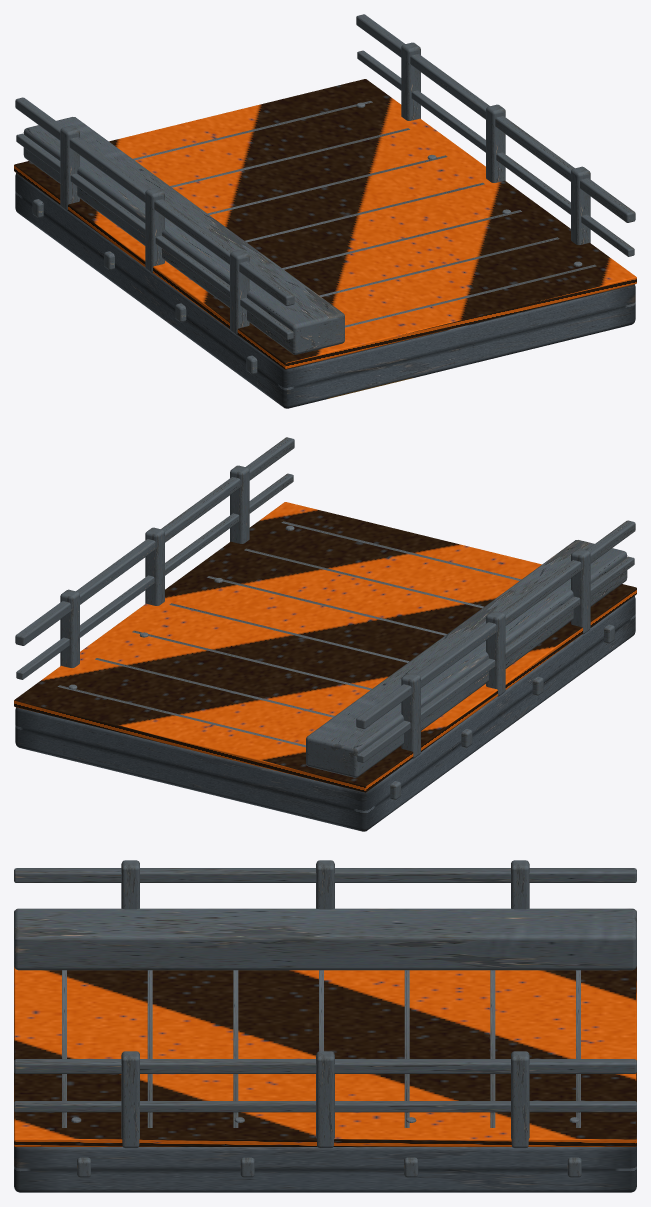
The model's file is bridge_deck.glb.
The picture shows the model from 3 angles, top to bottom: view 1: azimuth 30°, elevation 25°; view 2: azimuth 150°, elevation 25°; view 3: azimuth 270°, elevation 25°; orthographic projection. The views are drawn at different scales.
Parts seen in each view (by area): view 1: BridgeHazard, BridgeDeck, BridgeDucting, BridgeRailTop-10, BridgeRailTop10, BridgeRailMid-10, BridgeRailMid10, BridgePost-100, BridgePost-101, BridgePost-102, BridgePost100, BridgePost101 (+8 smaller); view 2: BridgeHazard, BridgeDeck, BridgeDucting, BridgeRailTop-10, BridgeRailTop10, BridgeRailMid-10, BridgeRailMid10, BridgePost-102, BridgePost-101, BridgePost-100, BridgePost102, BridgePost101 (+8 smaller); view 3: BridgeHazard, BridgeDucting, BridgeDeck, BridgeRailTop-10, BridgeRailTop10, BridgeRailMid10, BridgePost100, BridgePost102, BridgePost101, BridgePost-101, BridgePost-100, BridgePost-102 (+6 smaller).
Part boxes in pixels (<box>): BridgeHazard: <box>14,79,636,369</box>; BridgeDeck: <box>15,173,635,408</box>; BridgeDucting: <box>23,117,344,354</box>; BridgeRailTop-10: <box>15,97,294,305</box>; BridgeRailTop10: <box>356,14,635,222</box>; BridgeRailMid-10: <box>16,133,293,339</box>; BridgeRailMid10: <box>357,50,634,256</box>; BridgePost-100: <box>60,125,79,211</box>; BridgePost-101: <box>145,188,164,273</box>; BridgePost-102: <box>230,250,249,335</box>; BridgePost100: <box>401,42,420,120</box>; BridgePost101: <box>486,104,505,182</box>; BridgeHazard: <box>14,502,636,792</box>; BridgeDeck: <box>15,596,635,831</box>; BridgeDucting: <box>306,540,627,777</box>; BridgeRailTop-10: <box>356,520,635,728</box>; BridgeRailTop10: <box>15,437,294,645</box>; BridgeRailMid-10: <box>357,556,634,762</box>; BridgeRailMid10: <box>16,473,293,679</box>; BridgePost-102: <box>571,548,590,634</box>; BridgePost-101: <box>486,611,505,696</box>; BridgePost-100: <box>401,673,420,758</box>; BridgePost102: <box>230,465,249,543</box>; BridgePost101: <box>145,527,164,605</box>; BridgeHazard: <box>14,966,636,1146</box>; BridgeDucting: <box>14,908,636,970</box>; BridgeDeck: <box>14,1146,636,1192</box>; BridgeRailTop-10: <box>14,868,636,882</box>; BridgeRailTop10: <box>14,1059,636,1073</box>; BridgeRailMid10: <box>14,1101,636,1112</box>; BridgePost100: <box>511,1051,529,1148</box>; BridgePost102: <box>121,1051,139,1148</box>; BridgePost101: <box>316,1051,334,1148</box>; BridgePost-101: <box>316,860,334,909</box>; BridgePost-100: <box>511,860,529,909</box>; BridgePost-102: <box>121,860,139,909</box>.
Bounding box in the file's own units: 6.2 × 1.95 × 8.
Materials: 4 (4 with a texture image).
